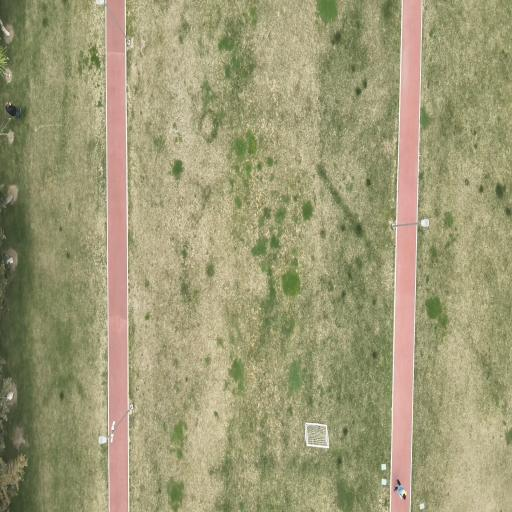person: (6, 102, 21, 119), (394, 478, 406, 499)
